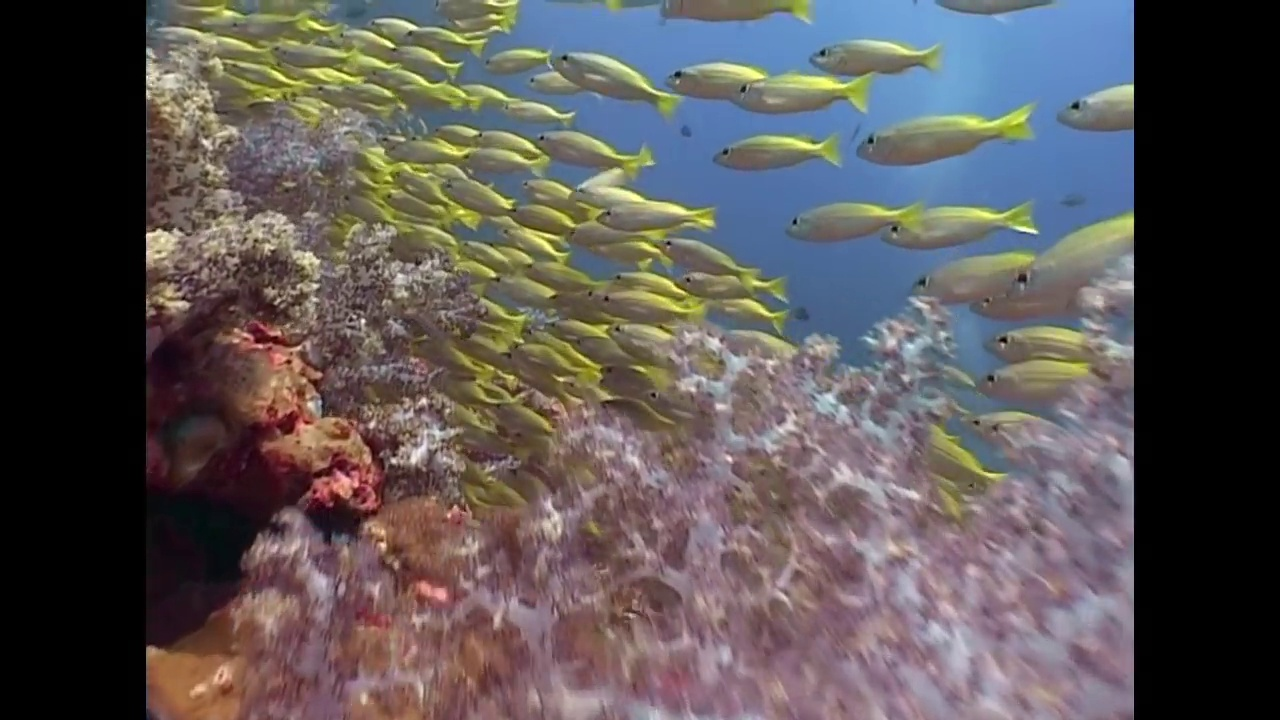big eye snapper: (1005, 211, 1137, 310), (852, 100, 1033, 167), (878, 194, 1039, 250), (551, 42, 673, 115), (727, 61, 876, 111), (805, 29, 942, 75), (904, 253, 1031, 301), (533, 122, 636, 179), (704, 130, 847, 171), (654, 233, 759, 286), (977, 321, 1092, 363), (780, 201, 922, 235), (963, 411, 1061, 459), (675, 264, 789, 304), (658, 56, 764, 99), (974, 362, 1083, 403), (507, 336, 595, 385), (1056, 79, 1132, 133), (593, 198, 719, 230), (593, 291, 702, 326), (523, 251, 599, 295), (436, 167, 513, 210), (600, 266, 688, 300), (484, 271, 558, 308), (224, 55, 300, 91), (496, 221, 564, 261), (267, 38, 351, 69), (386, 163, 448, 202), (469, 119, 538, 154), (509, 201, 572, 239), (399, 21, 479, 50), (390, 41, 460, 74), (484, 397, 546, 434), (378, 188, 448, 217), (460, 145, 538, 171), (502, 91, 568, 121), (368, 69, 434, 99), (337, 20, 390, 56), (475, 42, 553, 65), (515, 68, 593, 91)
